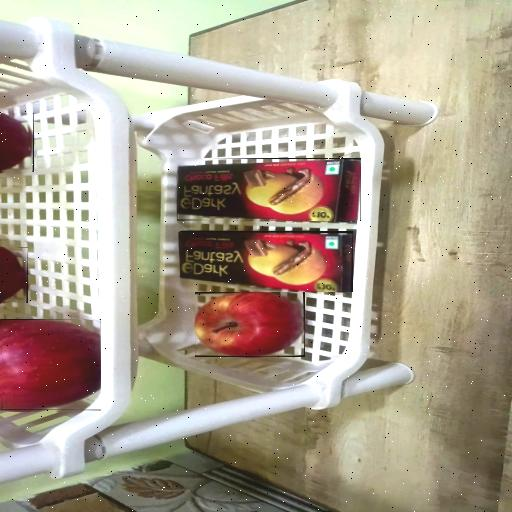Apple: (2, 320, 101, 410), (195, 292, 304, 356), (1, 114, 33, 171), (1, 247, 28, 302)
Choco Fills: (177, 160, 361, 220), (180, 232, 353, 292)
